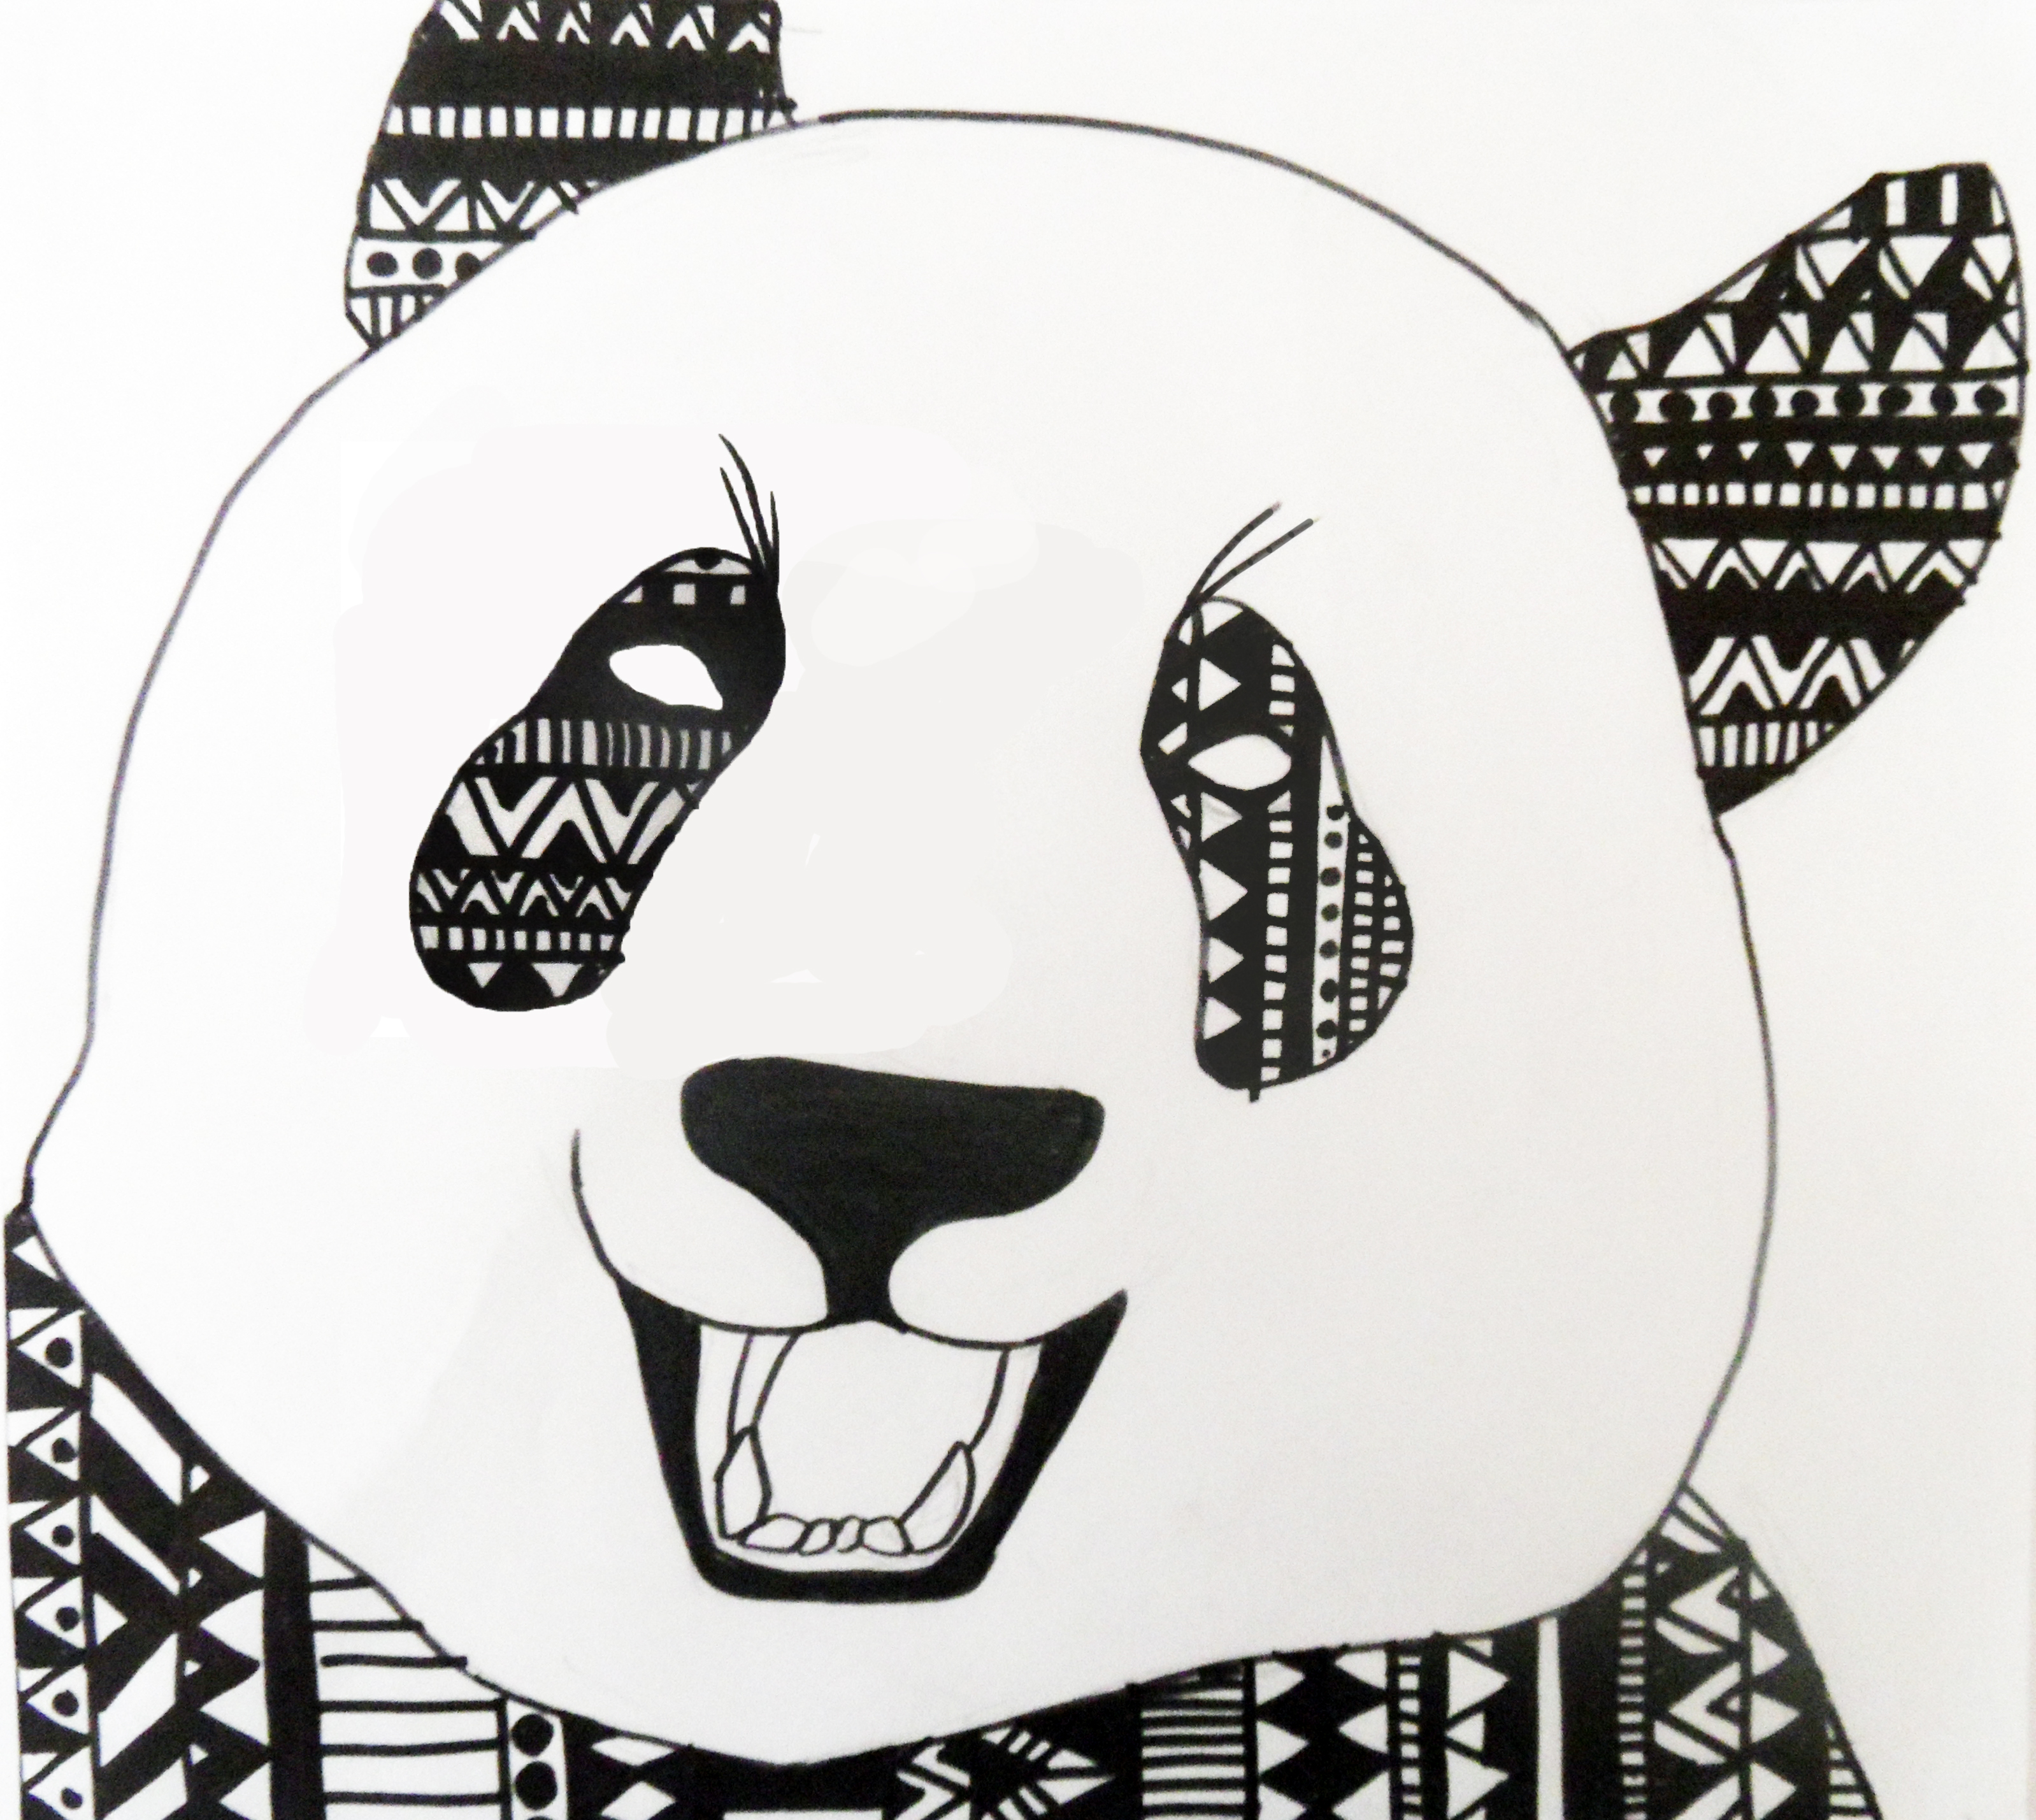panda: (21, 33, 1964, 1806)
